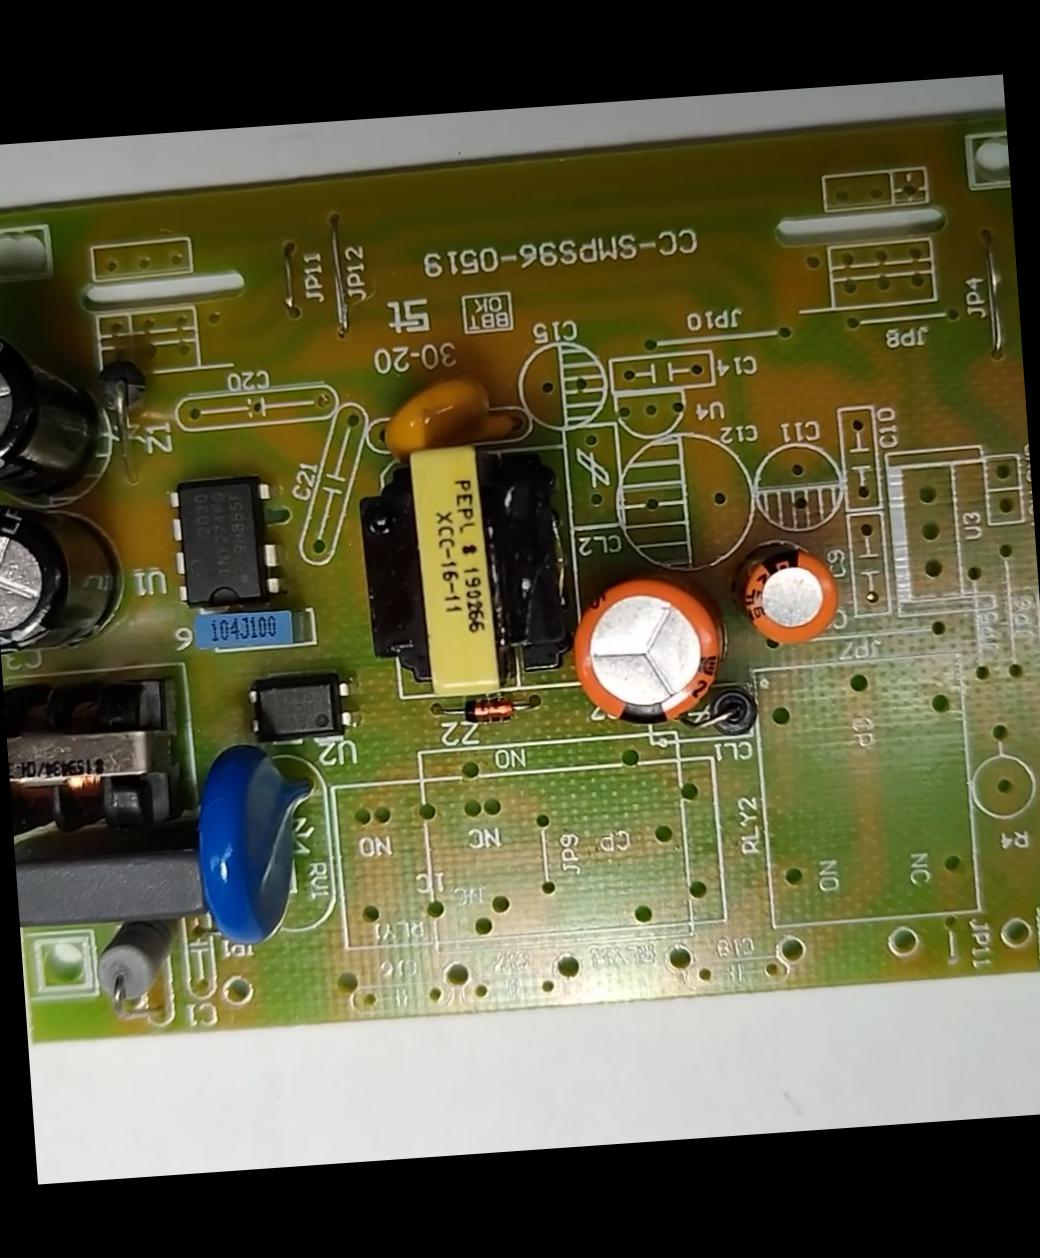Cap1: (569, 569, 729, 731)
Cap2: (744, 551, 840, 646)
Cap3: (0, 496, 134, 656)
Cap4: (0, 317, 109, 503)
MOSFET: (166, 476, 287, 614)
Mov: (191, 733, 326, 955)
Resistor: (90, 909, 186, 1007)
Transformer: (351, 435, 579, 703), (2, 672, 199, 847)
